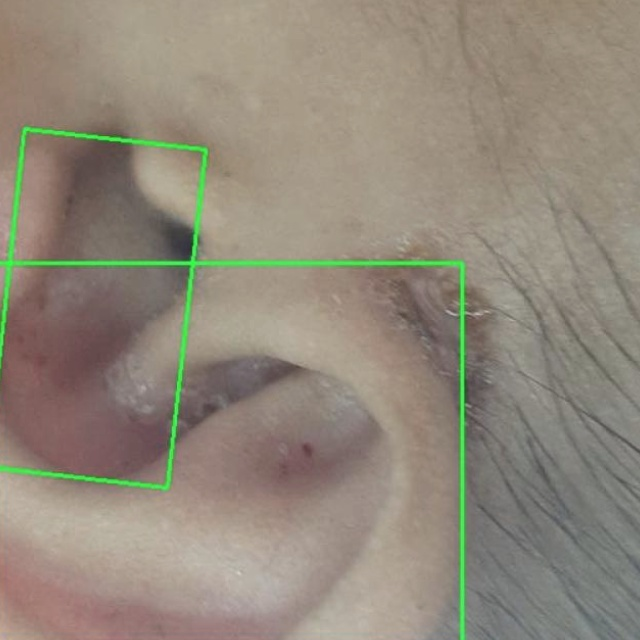Eczema: (0, 262, 463, 639), (0, 127, 207, 487)
